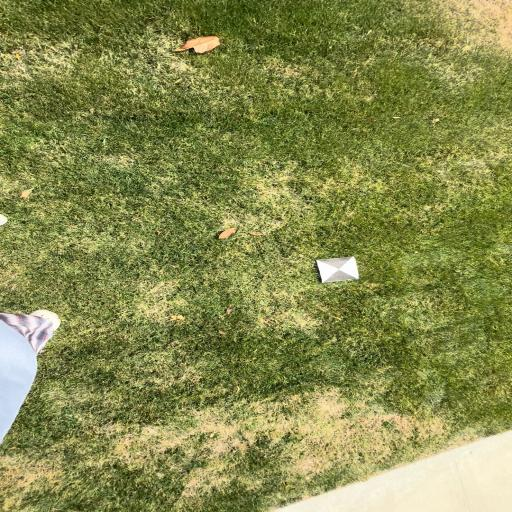target: (319, 257, 358, 283)
